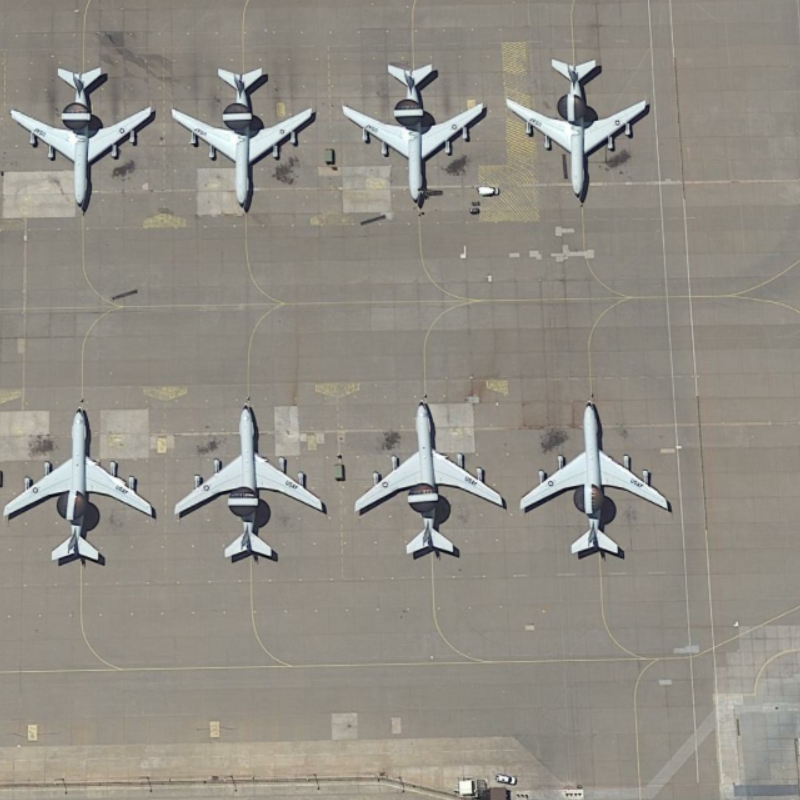A7: (517, 394, 675, 562), (4, 402, 165, 566), (351, 400, 514, 561), (174, 404, 331, 562), (10, 56, 165, 216), (165, 64, 321, 218), (499, 51, 655, 205), (338, 57, 491, 207)
